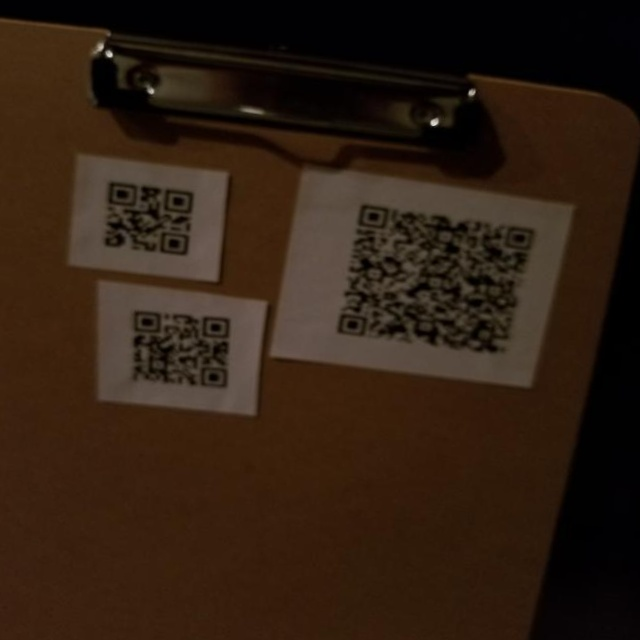qr-code: (305, 179, 556, 379), (101, 289, 256, 410), (78, 163, 221, 271)
